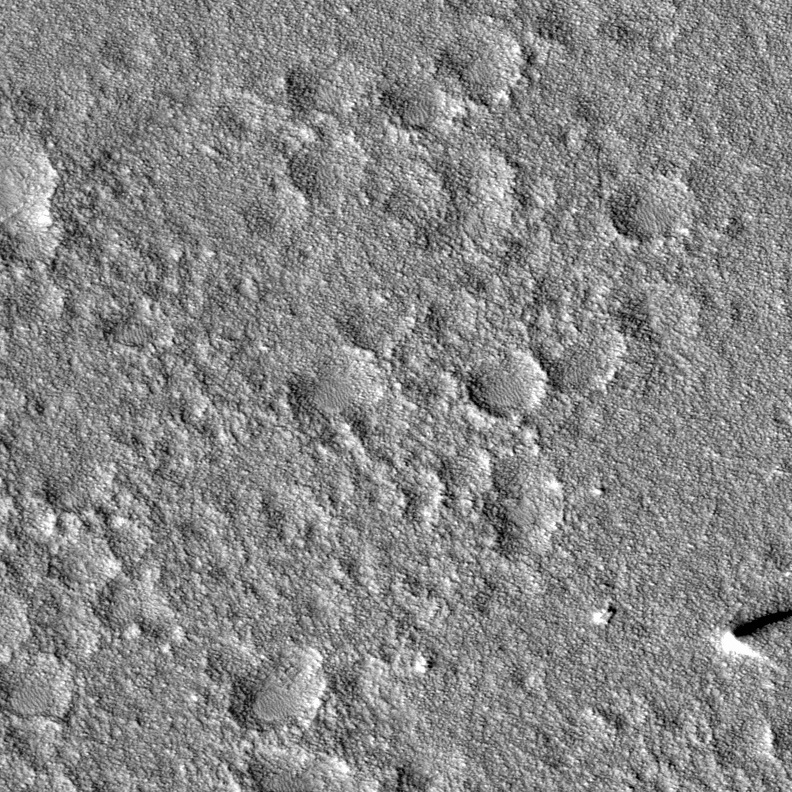dust_devil: (712, 604, 792, 677)
